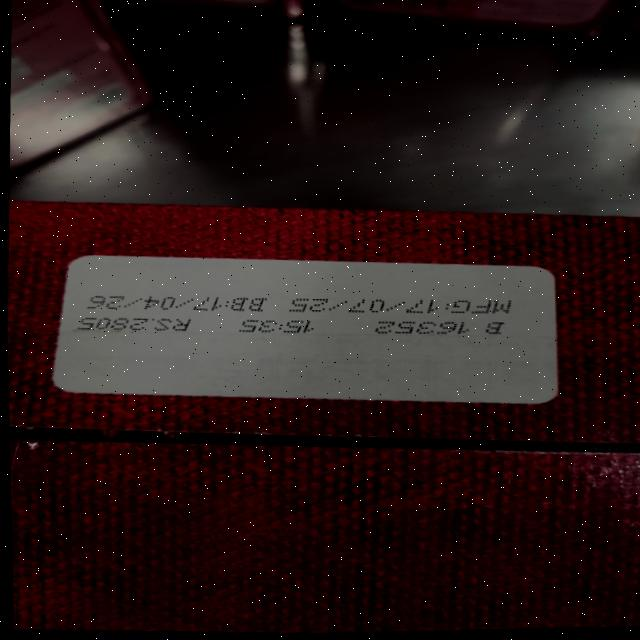BB: (87, 290, 266, 316)
Batch: (369, 317, 504, 339)
MFG: (288, 290, 513, 319)
RS: (73, 314, 194, 336)
TimeStamp: (237, 317, 317, 335)
